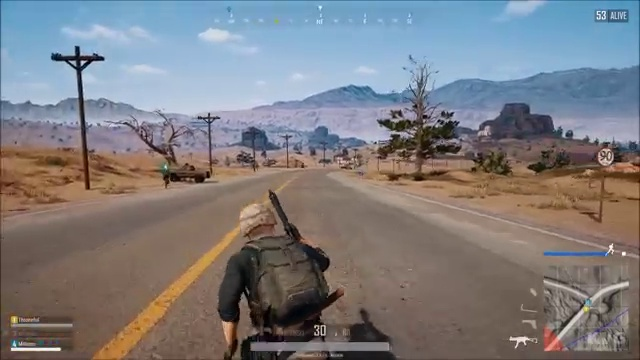Player: (180, 186, 365, 320)
